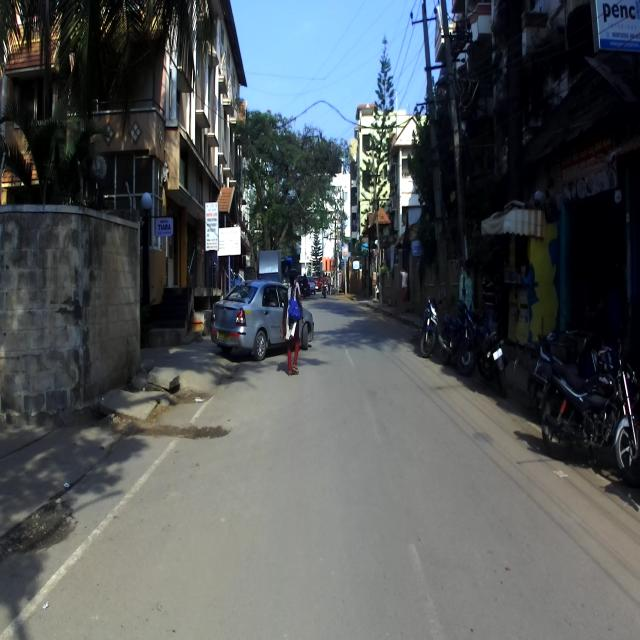car ahead at: (216, 281, 281, 357)
motorcycle ahead at: (528, 337, 636, 482)
person ahead at: (282, 265, 304, 376)
